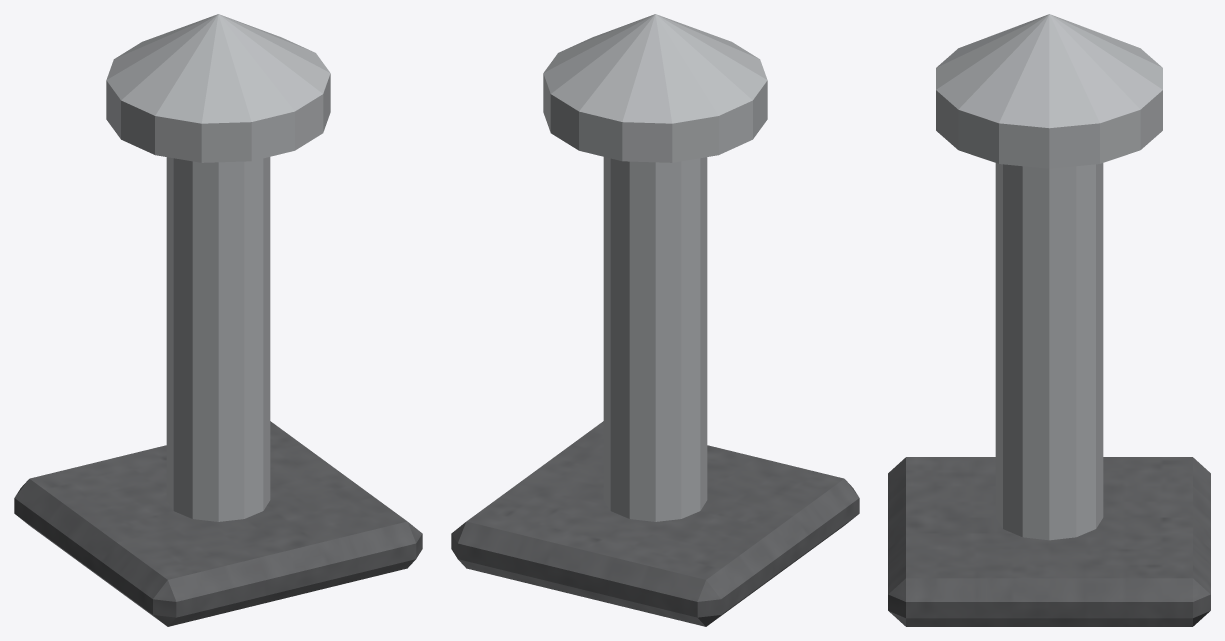
Rendered from vent.glb.
3 renders of one model, left to right at view 1: azimuth 30°, elevation 25°; view 2: azimuth 150°, elevation 25°; view 3: azimuth 270°, elevation 25°, orthographic. The views are drawn at different scales.
Visible parts, largest first — view 1: vent_steel, vent_membrane; view 2: vent_steel, vent_membrane; view 3: vent_steel, vent_membrane.
Boxes of the visible parts, left/top/right/bottom form: vent_steel: left=106, top=14, right=330, bottom=521; vent_membrane: left=14, top=421, right=422, bottom=626; vent_steel: left=543, top=14, right=767, bottom=521; vent_membrane: left=451, top=421, right=859, bottom=626; vent_steel: left=936, top=14, right=1162, bottom=540; vent_membrane: left=888, top=457, right=1210, bottom=626.
Size of the model in its own units: 0.36 by 0.68 by 0.36.
Materials: 2 (1 with a texture image).
